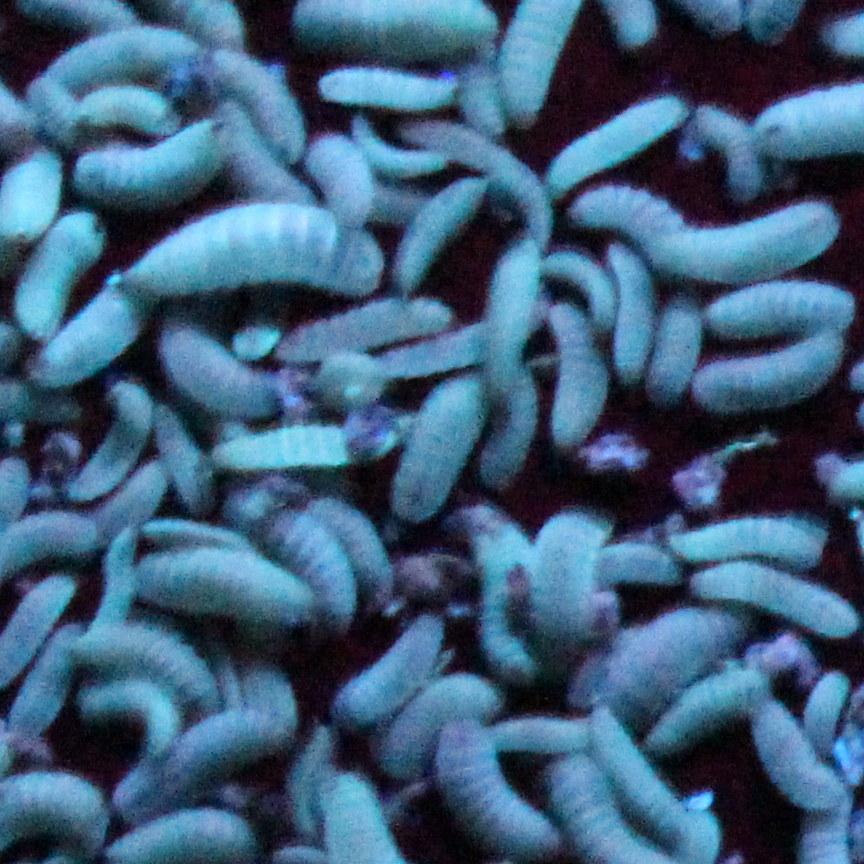larve: (133, 210, 388, 297), (453, 512, 564, 683), (401, 124, 556, 232), (121, 707, 285, 808), (394, 366, 497, 517), (435, 726, 553, 851), (652, 205, 833, 284), (122, 548, 311, 623), (605, 609, 734, 718), (592, 724, 703, 847), (29, 25, 211, 95), (9, 212, 101, 350), (74, 124, 231, 204), (699, 325, 849, 408), (211, 107, 317, 218), (24, 283, 138, 383), (269, 297, 448, 358), (290, 496, 393, 602), (154, 330, 292, 408), (549, 104, 679, 186), (207, 52, 302, 162), (339, 616, 435, 723), (79, 635, 217, 708), (649, 668, 777, 745), (541, 300, 608, 446), (400, 172, 483, 286), (264, 507, 348, 619), (386, 677, 496, 760), (538, 513, 603, 638), (670, 516, 824, 566), (760, 712, 838, 802), (79, 684, 180, 753), (392, 308, 494, 376), (208, 435, 404, 468), (595, 297, 664, 390), (18, 630, 80, 733), (476, 371, 530, 489), (70, 83, 183, 139), (311, 65, 460, 107), (564, 194, 690, 243), (76, 402, 141, 492), (143, 408, 205, 502), (705, 295, 854, 333), (311, 136, 373, 225), (700, 110, 759, 203), (658, 299, 712, 400), (355, 124, 456, 176), (105, 460, 161, 540), (484, 713, 591, 753), (596, 543, 677, 584), (807, 675, 851, 750), (142, 522, 253, 551), (101, 530, 133, 624)
